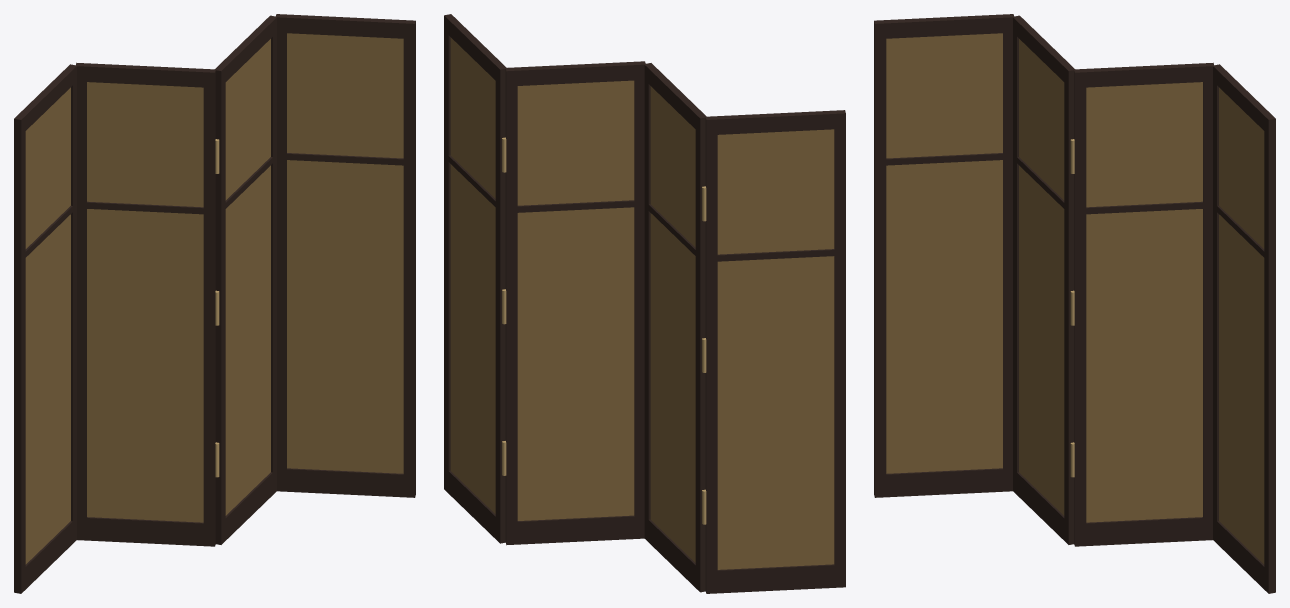
The model's file is folding_screen_candidate.glb.
3 renders of one model, left to right at view 1: azimuth 30°, elevation 25°; view 2: azimuth 150°, elevation 25°; view 3: azimuth 330°, elevation 25°, orthographic.
Visible parts, largest first — view 1: Cube.022, Cube.010, Cube.016, Cube.004, Cube.019, Cube.007, Cube, Cube.012, Cube.006, Cube.018, Cube.009, Cube.021 (+10 smaller); view 2: Cube.004, Cube.016, Cube.022, Cube.010, Cube.001, Cube.013, Cube, Cube.012, Cube.006, Cube.018, Cube.007, Cube.019 (+10 smaller); view 3: Cube.004, Cube.016, Cube.010, Cube.022, Cube, Cube.012, Cube.019, Cube.007, Cube.013, Cube.001, Cube.015, Cube.003 (+10 smaller).
Boxes of the visible parts, left/top/right/bottom form: Cube.022: left=287, top=33, right=403, bottom=473; Cube.010: left=87, top=82, right=203, bottom=522; Cube.016: left=225, top=39, right=270, bottom=515; Cube.004: left=25, top=87, right=70, bottom=564; Cube.019: left=403, top=20, right=415, bottom=497; Cube.007: left=203, top=69, right=215, bottom=546; Cube: left=14, top=114, right=25, bottom=593; Cube.012: left=214, top=65, right=225, bottom=544; Cube.006: left=75, top=62, right=87, bottom=540; Cube.018: left=276, top=14, right=287, bottom=491; Cube.009: left=86, top=517, right=203, bottom=545; Cube.021: left=287, top=468, right=403, bottom=497; Cube.004: left=717, top=129, right=834, bottom=569; Cube.016: left=517, top=80, right=634, bottom=520; Cube.022: left=450, top=37, right=495, bottom=513; Cube.010: left=650, top=86, right=695, bottom=562; Cube.001: left=705, top=116, right=717, bottom=593; Cube.013: left=505, top=67, right=517, bottom=545; Cube: left=834, top=110, right=845, bottom=587; Cube.012: left=634, top=61, right=645, bottom=538; Cube.006: left=695, top=113, right=706, bottom=592; Cube.018: left=495, top=64, right=506, bottom=543; Cube.007: left=644, top=63, right=655, bottom=541; Cube.019: left=444, top=14, right=455, bottom=493; Cube.004: left=886, top=33, right=1002, bottom=473; Cube.016: left=1086, top=82, right=1202, bottom=522; Cube.010: left=1019, top=39, right=1064, bottom=515; Cube.022: left=1219, top=87, right=1264, bottom=564; Cube: left=874, top=20, right=886, bottom=497; Cube.012: left=1074, top=69, right=1086, bottom=546; Cube.019: left=1264, top=114, right=1275, bottom=593; Cube.007: left=1064, top=65, right=1075, bottom=544; Cube.013: left=1202, top=62, right=1214, bottom=540; Cube.001: left=1002, top=14, right=1013, bottom=491; Cube.015: left=1086, top=517, right=1203, bottom=545; Cube.003: left=886, top=468, right=1002, bottom=497.
Size of the model in its own units: 1.62 by 1.83 by 0.315.
